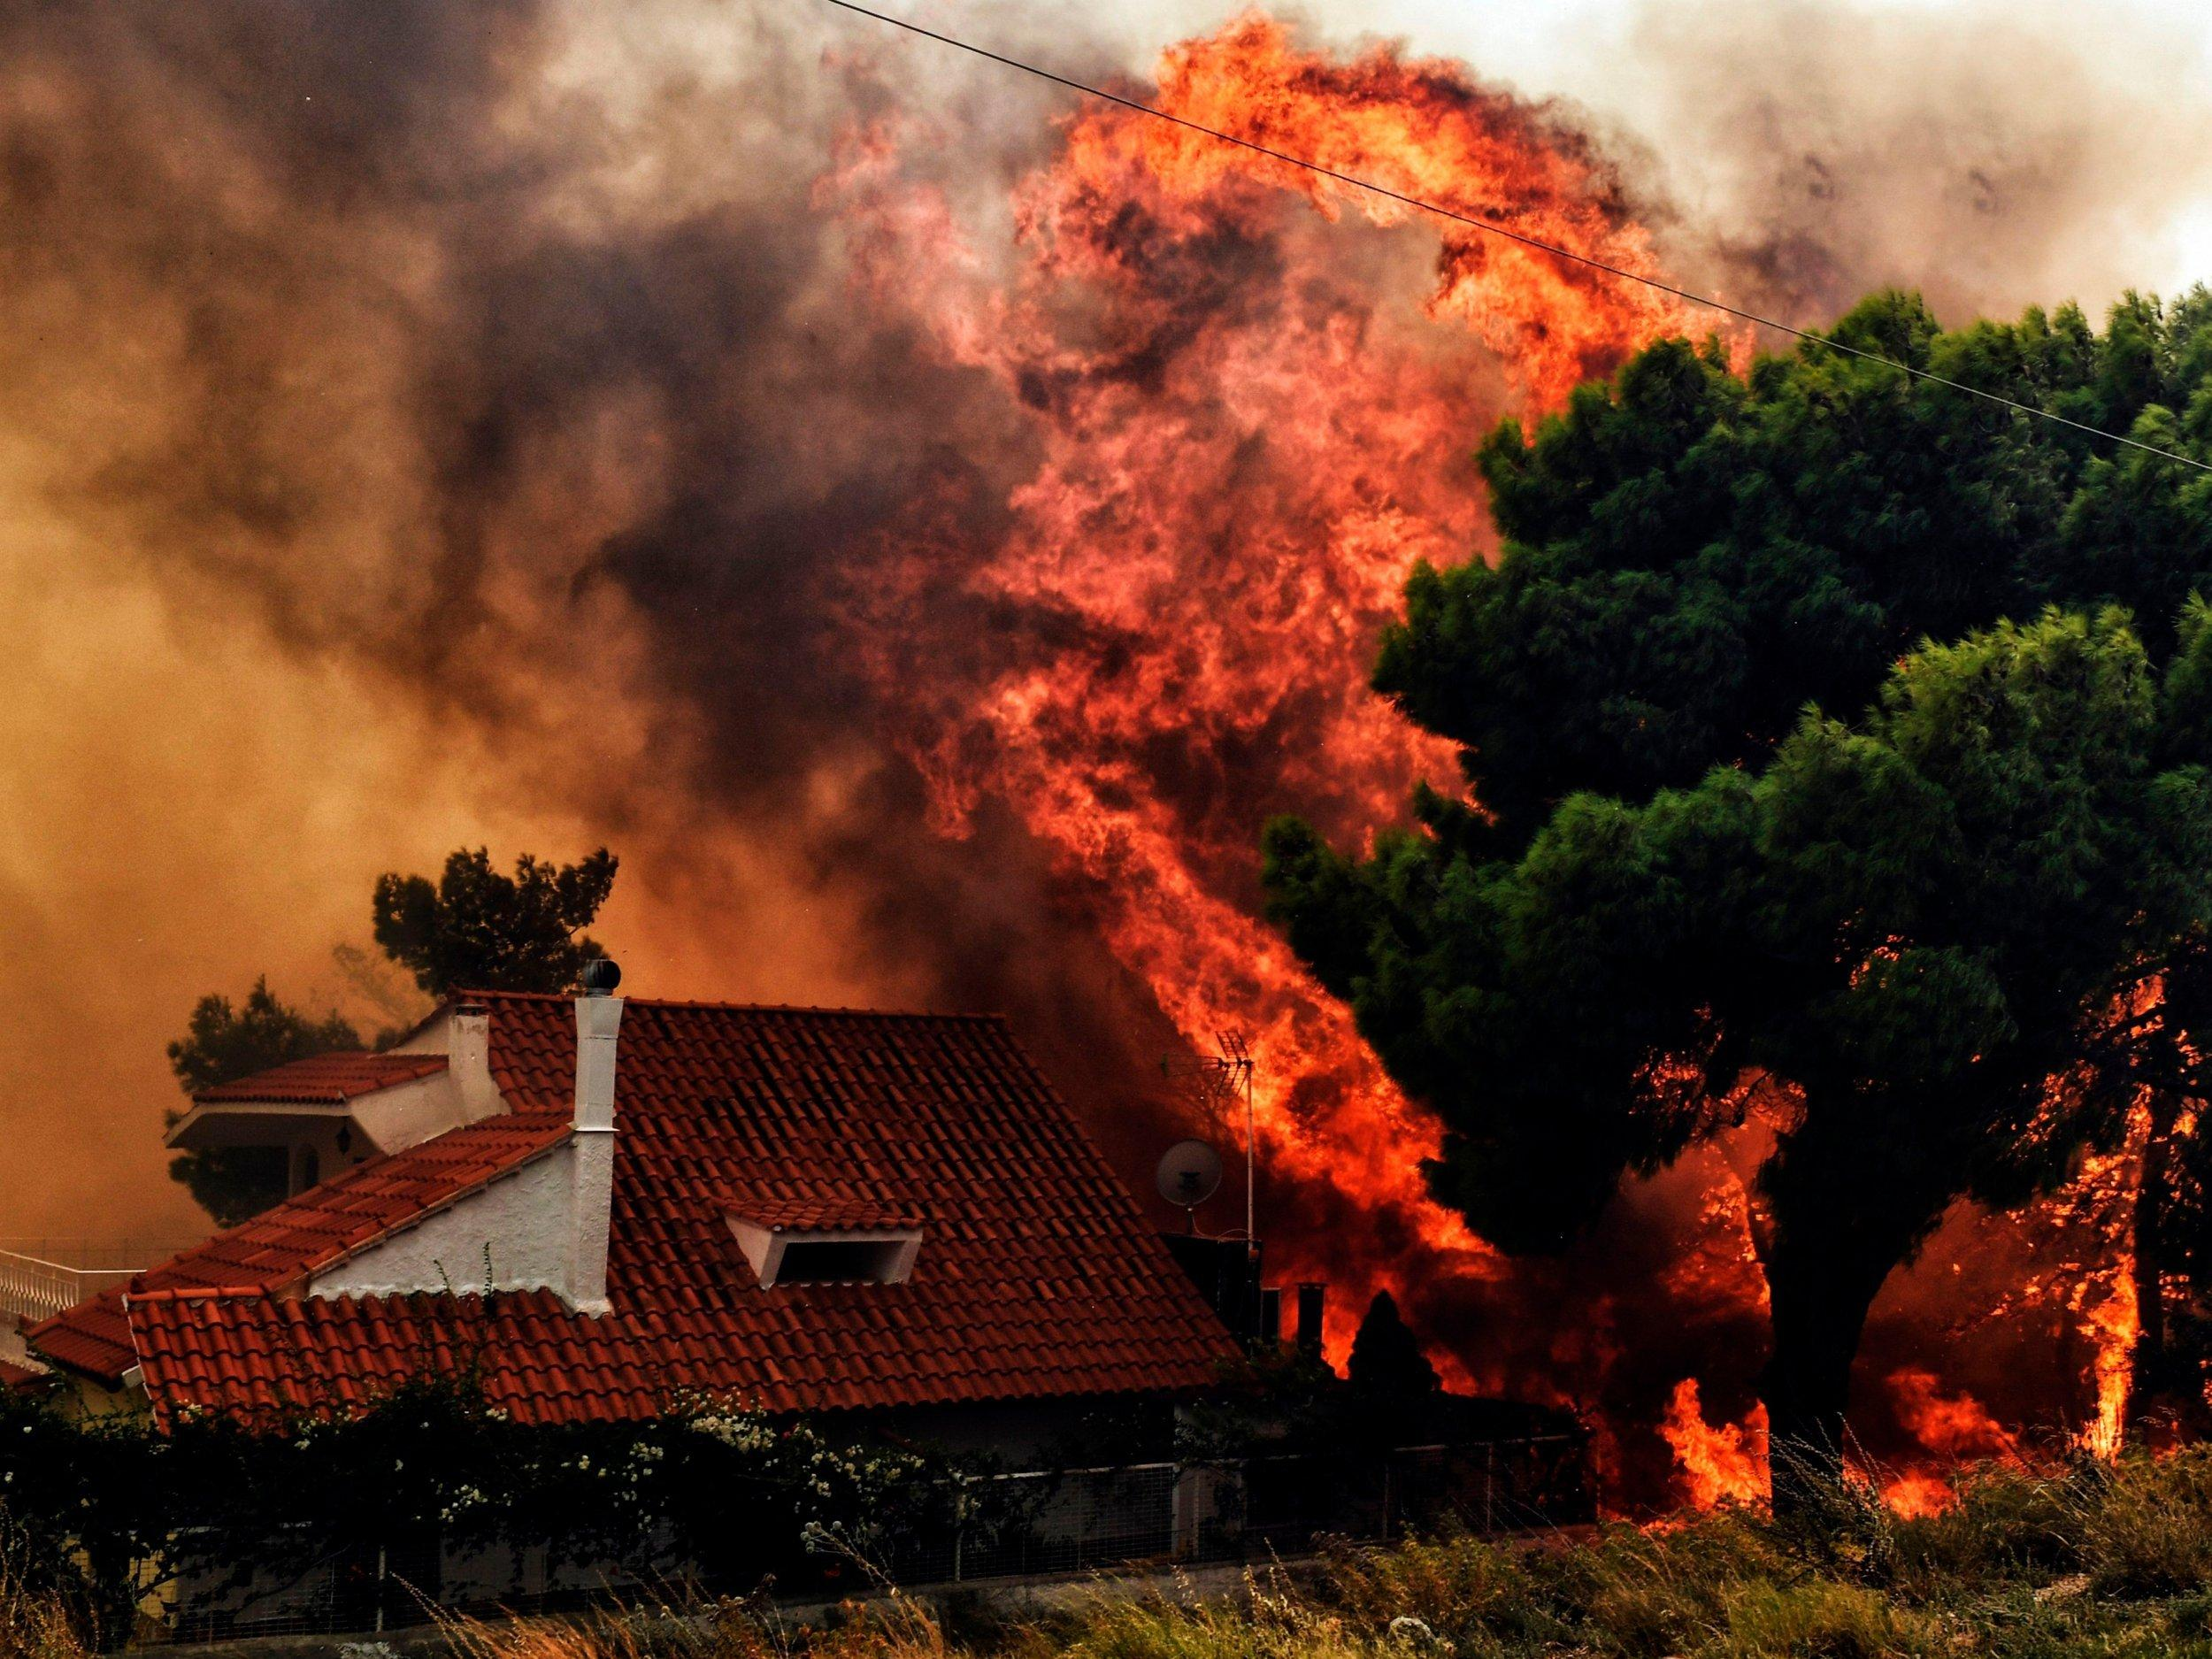fire: (1082, 87, 1482, 1239), (1496, 96, 1635, 347)
smoke: (17, 272, 812, 871), (84, 0, 524, 263), (19, 910, 181, 1215)
